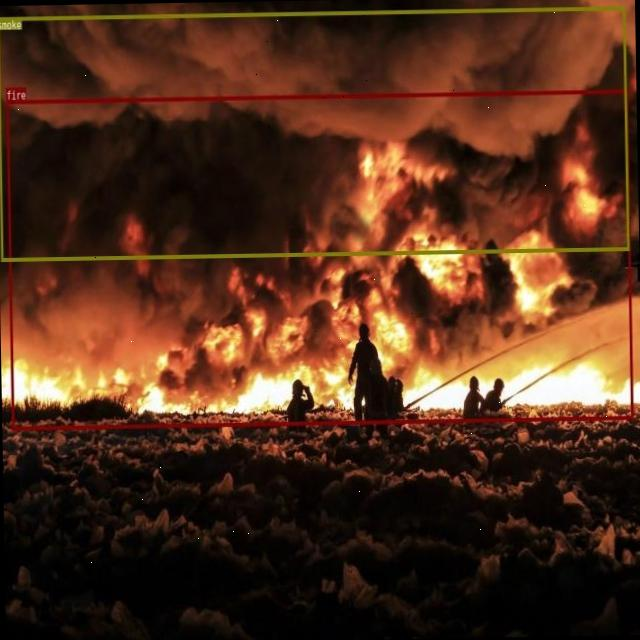fire: (5, 89, 633, 428)
smoke: (0, 5, 628, 260)
